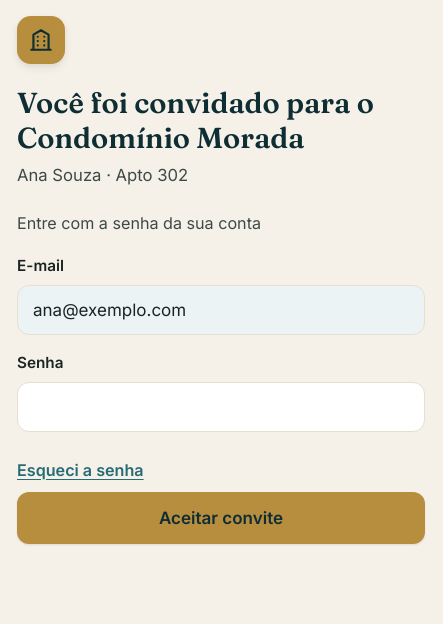
Scenario: AcceptInviteScreen › a wrong password for an existing account is explained
Type "errada" into the password field labelled "Senha" at [221, 407], box [17,382,425,432]
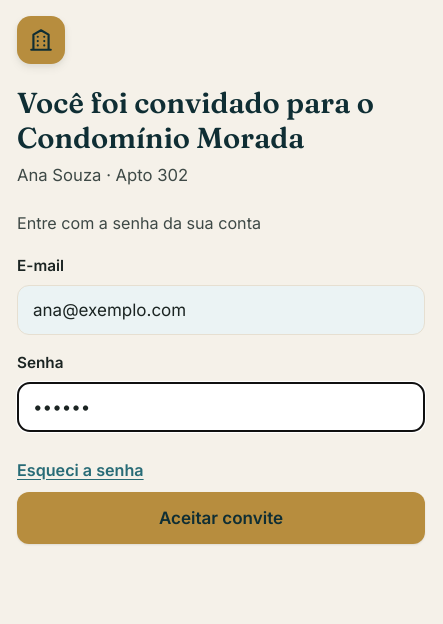
Click the button "Aceitar convite" at [221, 518], box [17,492,425,544]
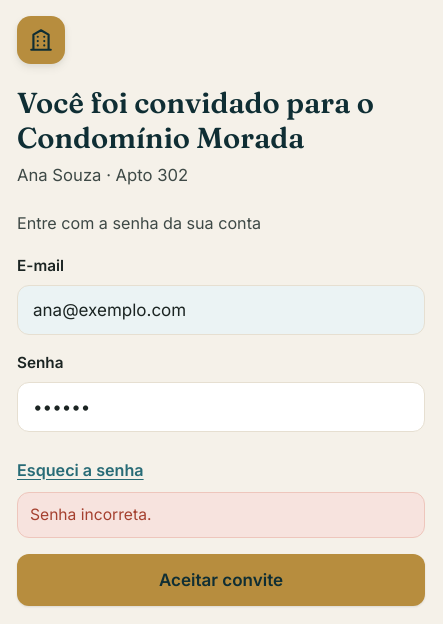
Check: the message reads "Senha incorreta.", box [30,505,151,524]
